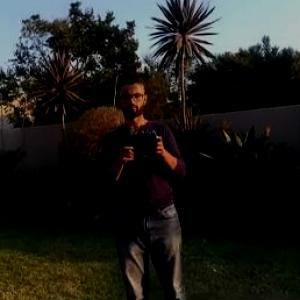follow: (92, 60, 195, 299)
